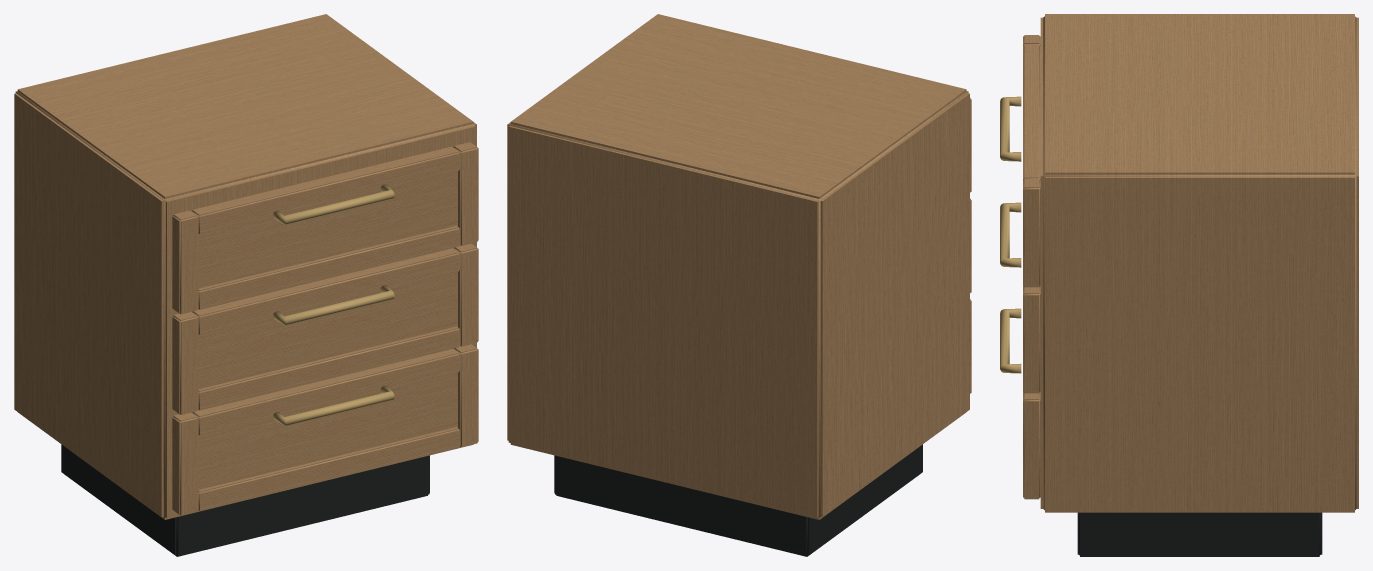
Rendered from country.bedside.gltf.
The picture shows the model from 3 angles, left to right: view 1: azimuth 30°, elevation 25°; view 2: azimuth 150°, elevation 25°; view 3: azimuth 270°, elevation 25°; orthographic projection. The views are drawn at different scales.
Parts seen in each view (by area): view 1: country.bedside.carcass; view 2: country.bedside.carcass; view 3: country.bedside.carcass.
Boxes of the visible parts, <box> form: country.bedside.carcass: <box>14,14,478,556</box>; country.bedside.carcass: <box>507,14,971,556</box>; country.bedside.carcass: <box>1000,14,1358,556</box>.
Bounding box in the file's own units: 0.47 × 0.54 × 0.44.
3 materials, 1 textured.
